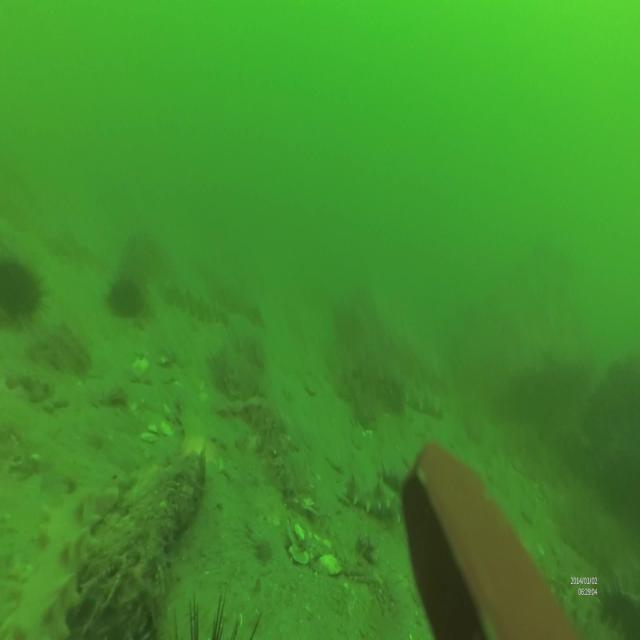echinus: (1, 251, 50, 324), (602, 570, 639, 640), (106, 272, 144, 320)
holothurian: (2, 471, 122, 632), (337, 448, 398, 522), (555, 581, 625, 640), (166, 280, 230, 329), (401, 378, 445, 421)
scallop: (312, 547, 340, 581)
